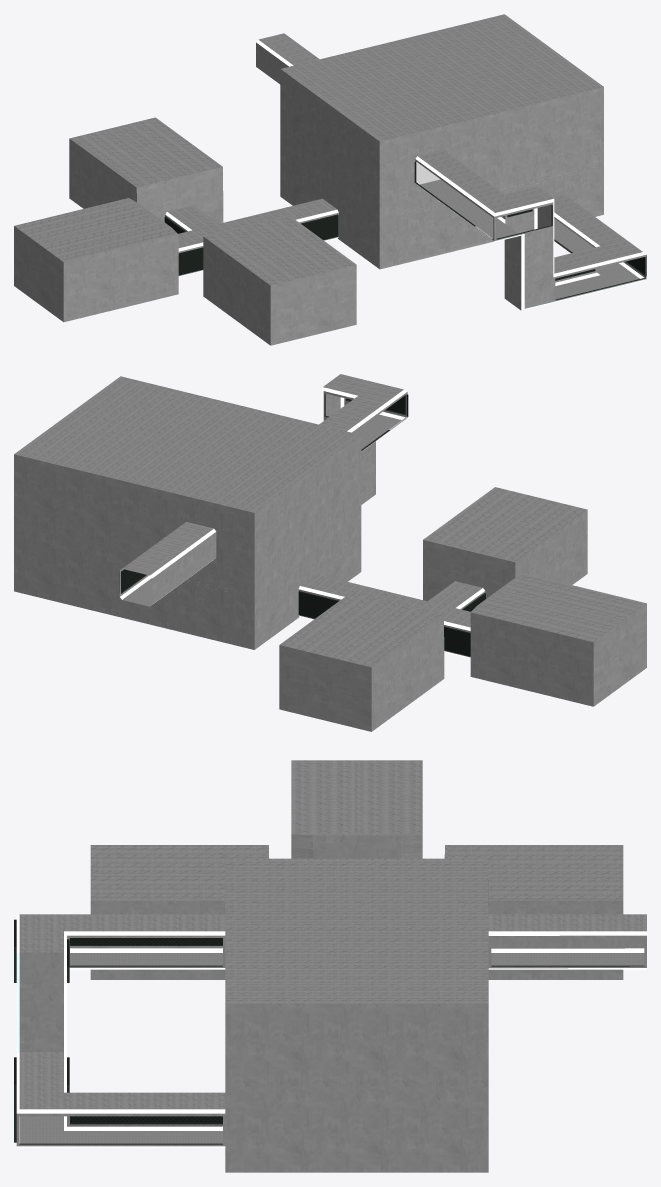
File: WallExport_Updatefbx.fbx
3 views of the same model, one above another, from view 1: azimuth 30°, elevation 25°; view 2: azimuth 150°, elevation 25°; view 3: azimuth 270°, elevation 25° (orthographic). The views are drawn at different scales.
Parts seen in each view (by area): view 1: GlassCieling; view 2: GlassCieling; view 3: GlassCieling.
Boxes of the visible parts, <box> form: GlassCieling: <box>14,14,646,345</box>; GlassCieling: <box>14,374,646,731</box>; GlassCieling: <box>14,760,646,1172</box>.
Size of the model in its own units: 3592 by 851 by 2887.
